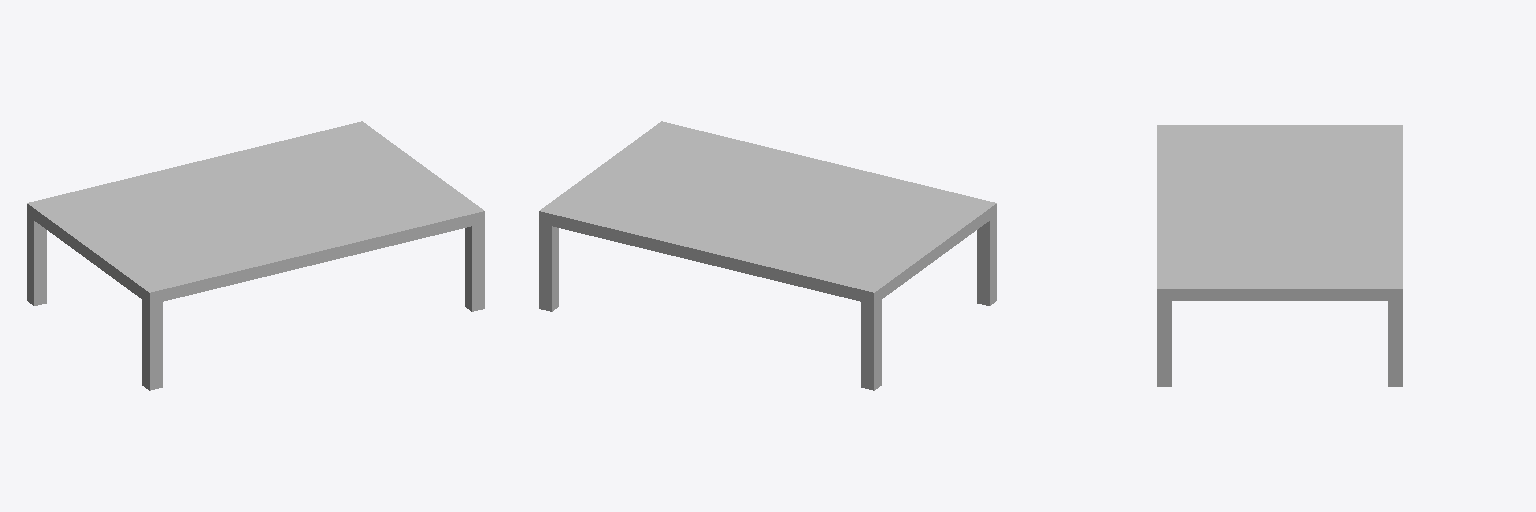
Rendered from Mesa.obj.
The picture shows the model from 3 angles: view 1: azimuth 30°, elevation 25°; view 2: azimuth 150°, elevation 25°; view 3: azimuth 270°, elevation 25°; orthographic projection.
Visible parts, largest first — view 1: Cubo; view 2: Cubo; view 3: Cubo.
Part boxes in pixels (left/top/right/bottom): Cubo: left=27, top=121, right=484, bottom=390; Cubo: left=539, top=121, right=996, bottom=390; Cubo: left=1157, top=125, right=1402, bottom=386.
Bounding box in the file's own units: 14.77 × 4.12 × 9.35.